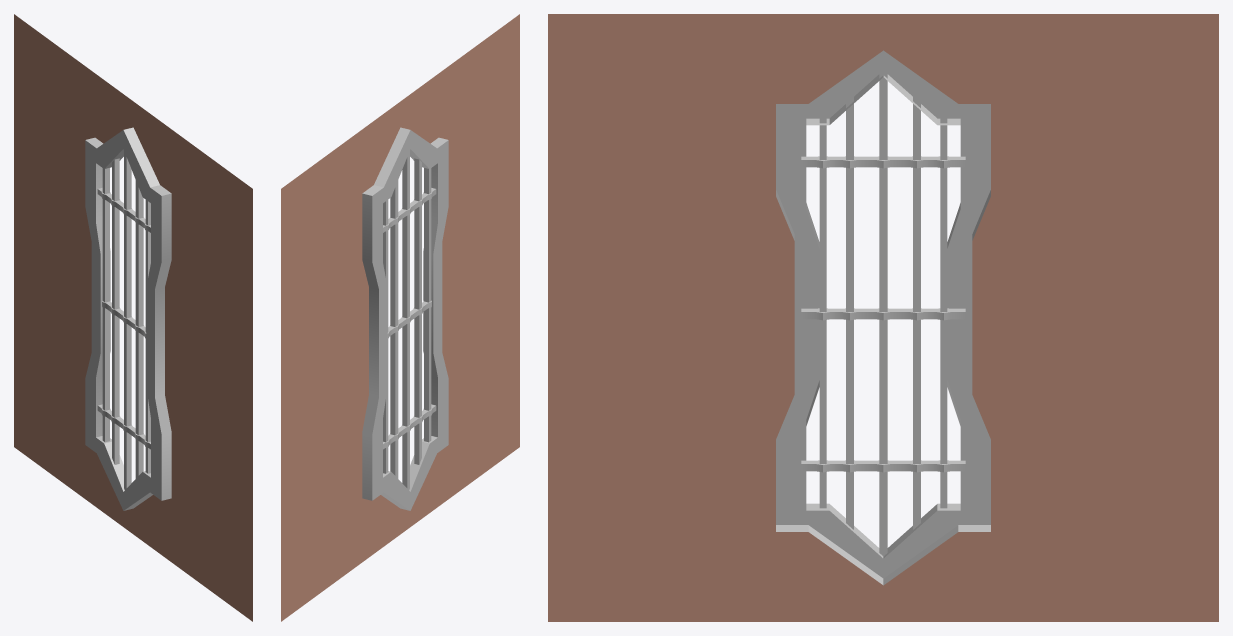
File: Wall_Window.fbx
The picture shows the model from 3 angles, left to right: view 1: azimuth 30°, elevation 25°; view 2: azimuth 150°, elevation 25°; view 3: azimuth 270°, elevation 25°; orthographic projection. The views are drawn at different scales.
Visible parts, largest first — view 1: Wall_Window; view 2: Wall_Window; view 3: Wall_Window.
Boxes of the visible parts, x1,y1,x2,y2 form: Wall_Window: [14, 14, 252, 621]; Wall_Window: [281, 14, 519, 621]; Wall_Window: [548, 14, 1218, 621].
Size of the model in its own units: 4.85 by 200 by 200.
